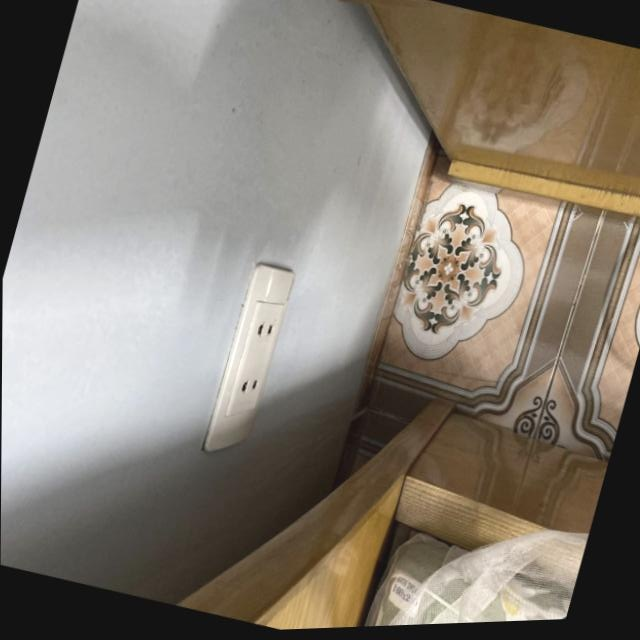outlet: (200, 261, 297, 464)
